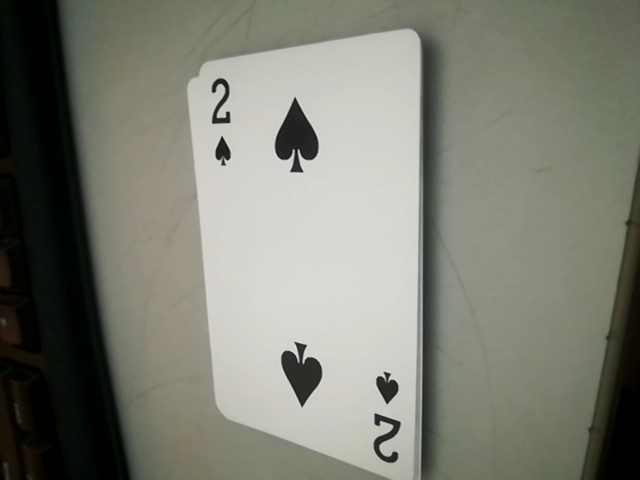ht 2: (197, 71, 245, 179)
